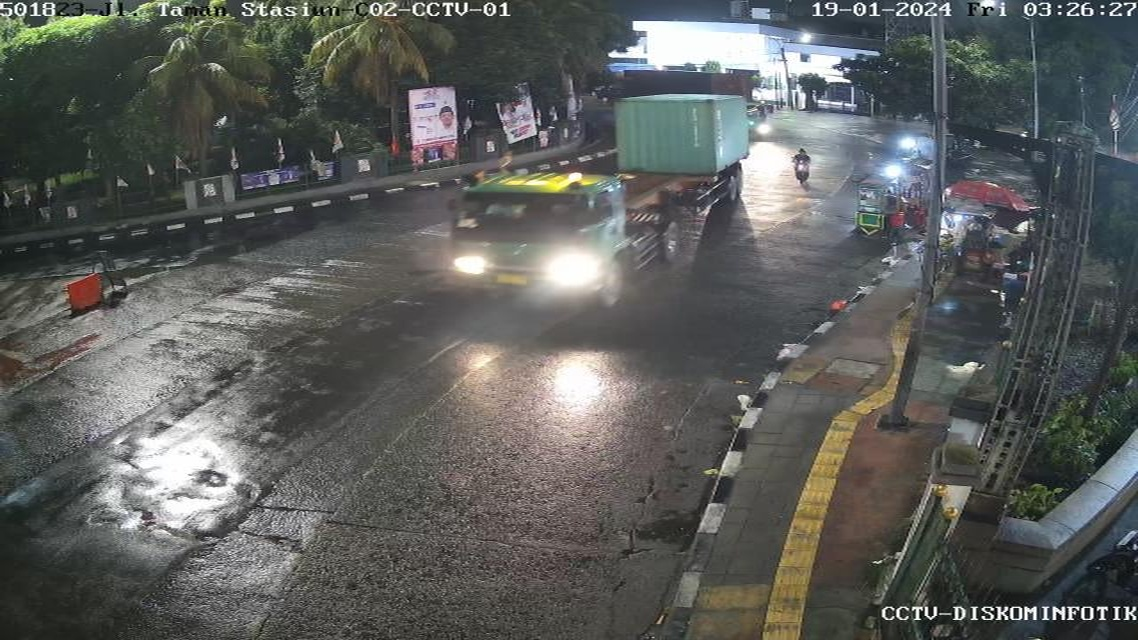Gerobak: (850, 171, 898, 236), (957, 206, 996, 275)
